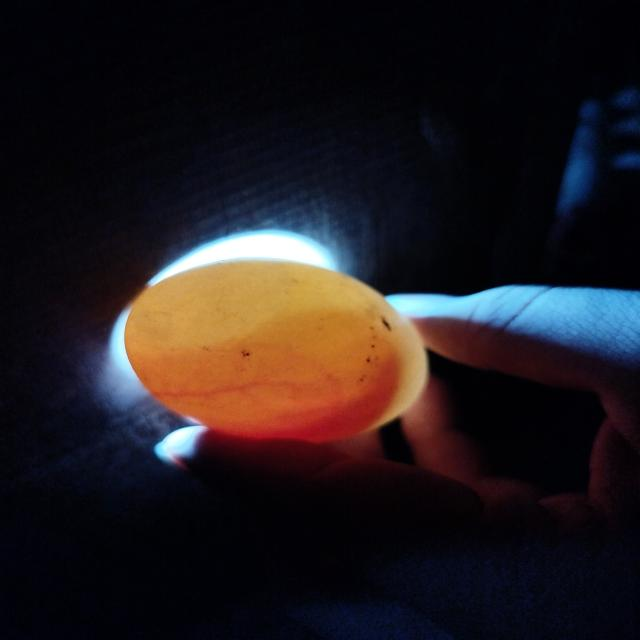Camara de Ar: (126, 258, 282, 352)
Gema Quebrada: (215, 355, 399, 442)
